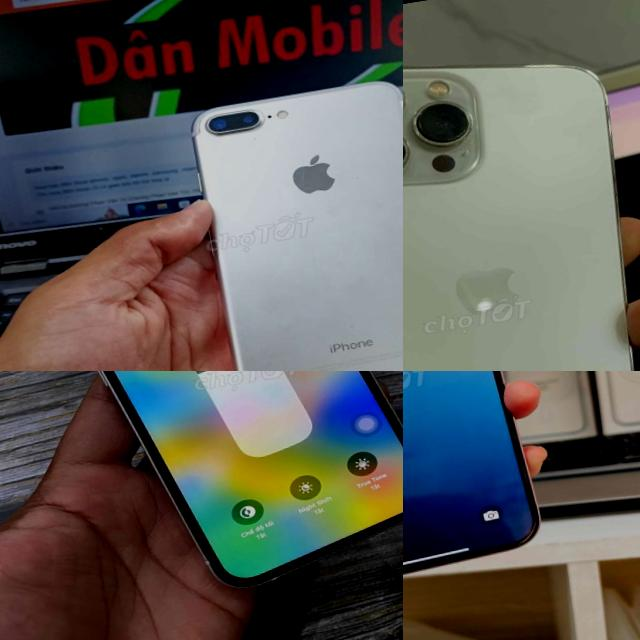gen_12_13: (27, 371, 403, 615), (403, 30, 640, 371)
gen_15: (403, 371, 568, 598)
gen_7_8: (176, 66, 403, 371)
